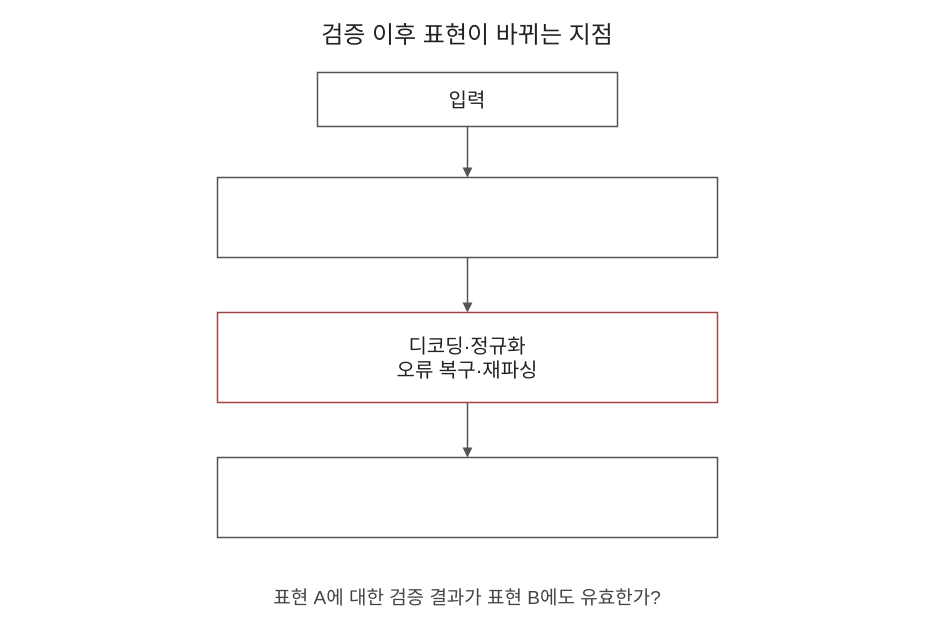
Some shapes in this 934 by 630 pixel diagram are drawn without their labels. Here are the shapes that lost their labels. From the top down, the box of each, then its label:
(216, 176, 718, 258): 표현 A 주소 해석·보안 판단
(216, 456, 718, 538): 표현 B 메일 전송·주소 표시·인가
